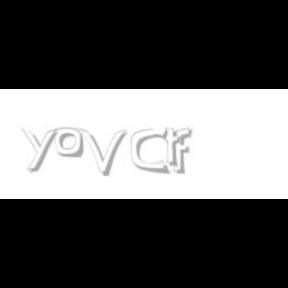C: (132, 128, 168, 174)
V: (79, 128, 127, 176)
f: (172, 128, 196, 174)
o: (54, 128, 84, 158)
t: (163, 128, 185, 168)
y: (21, 128, 61, 172)
